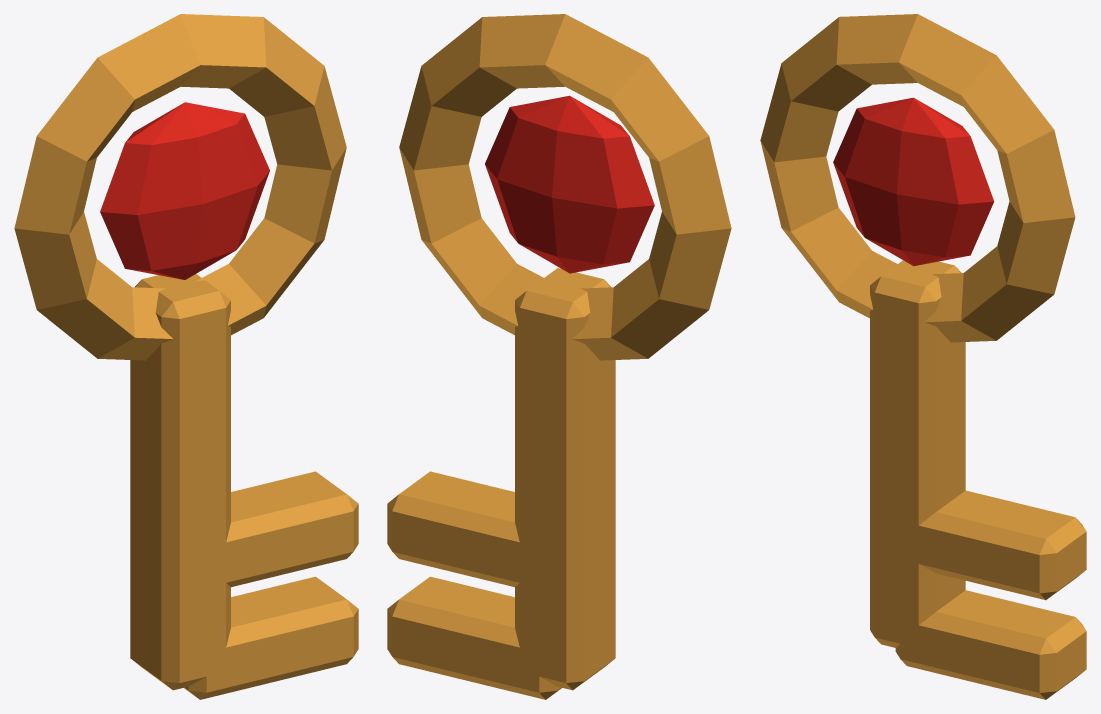
File: key_red.glb
3 renders of one model, left to right at view 1: azimuth 30°, elevation 25°; view 2: azimuth 150°, elevation 25°; view 3: azimuth 330°, elevation 25°, orthographic. The views are drawn at different scales.
Visible parts, largest first — view 1: key_red_Surface; view 2: key_red_Surface; view 3: key_red_Surface.
Part boxes in pixels (x1=…): key_red_Surface: x1=14, y1=14, x2=358, y2=699; key_red_Surface: x1=387, y1=14, x2=731, y2=699; key_red_Surface: x1=760, y1=14, x2=1086, y2=699.
Size of the model in its own units: 0.43 by 0.835 by 0.1.
Materials: 1 (1 with a texture image).
